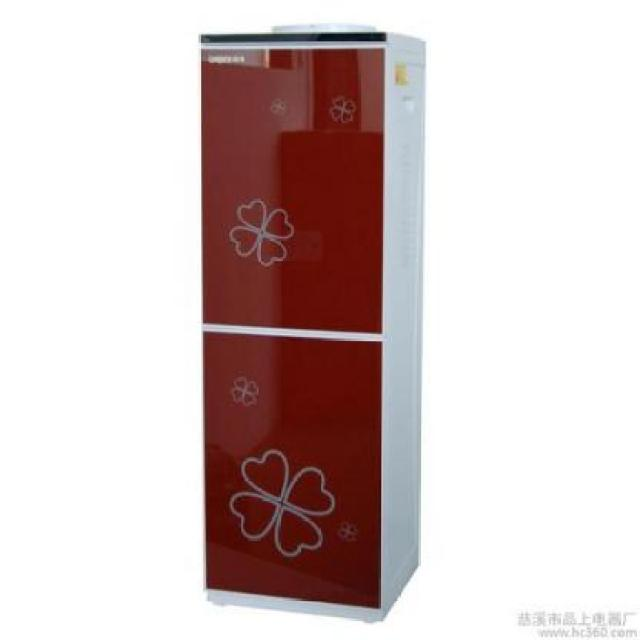cooler: (194, 20, 426, 628)
